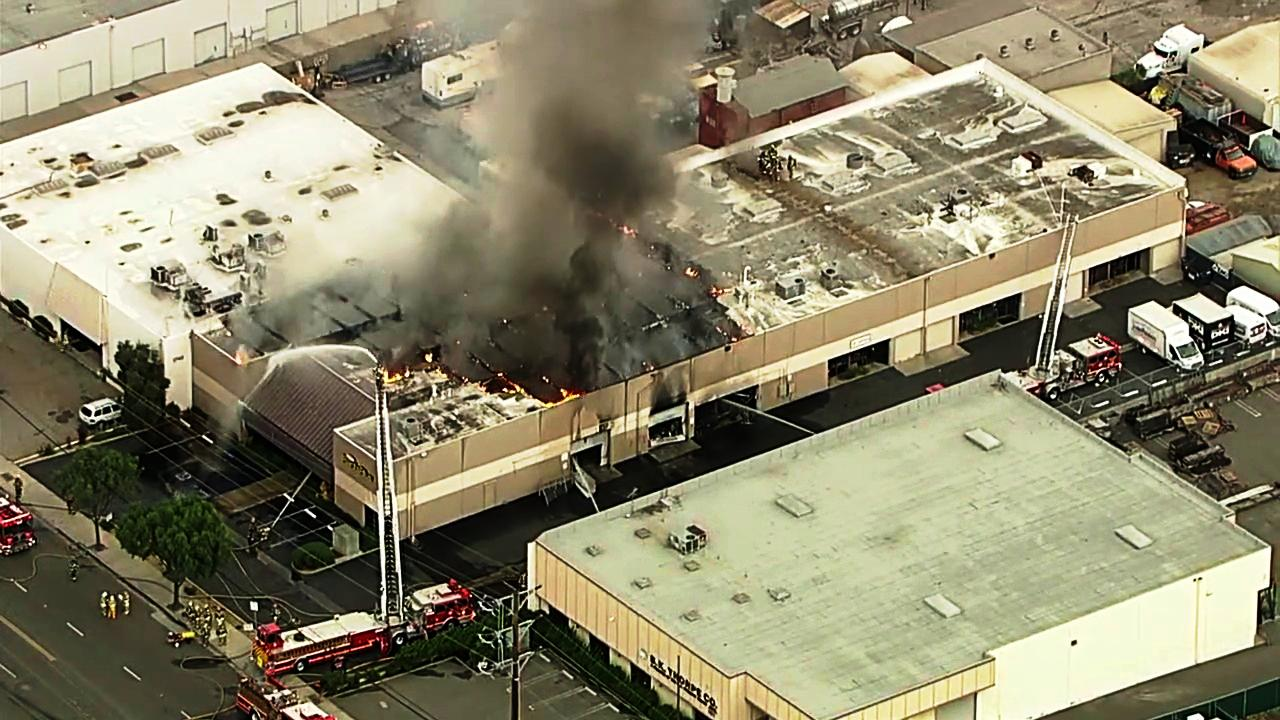smoke: (530, 25, 635, 302)
